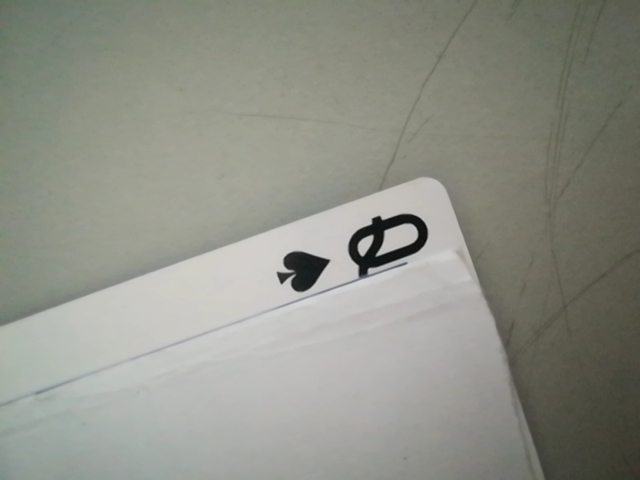ht q: (266, 200, 450, 302)
